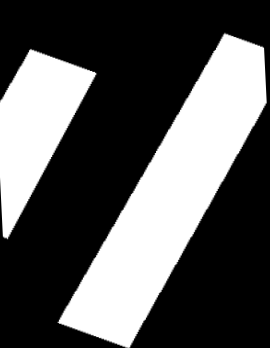parkingspot: (58, 33, 267, 348), (0, 49, 96, 239)
